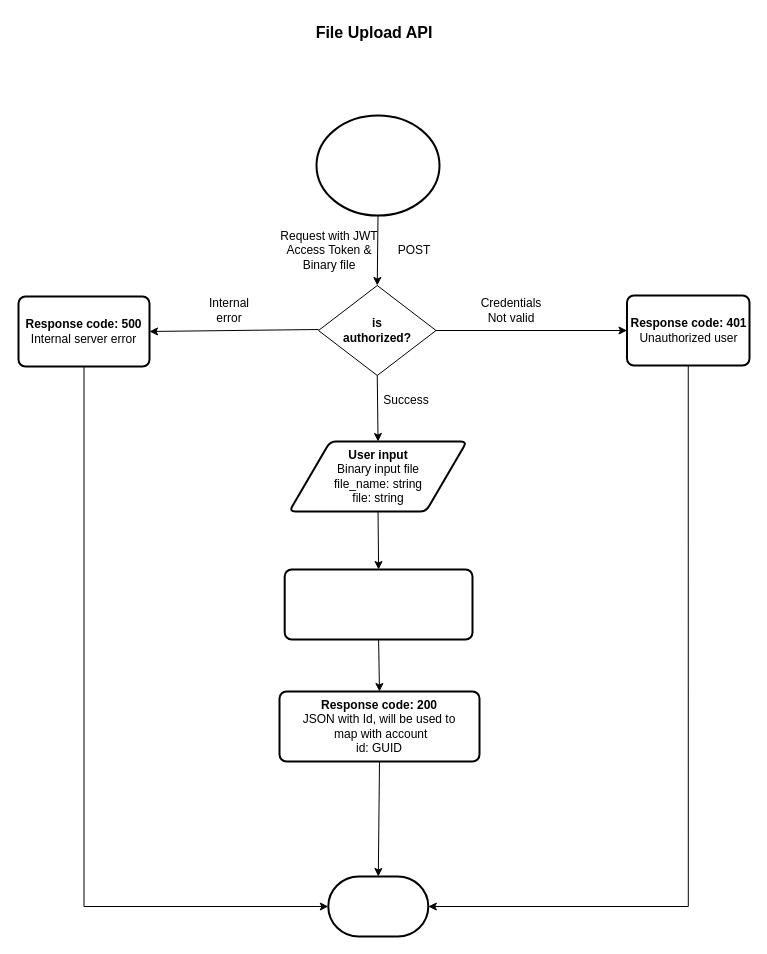
Image size: 767x954. Some labels were removed from this diagram. The shapes that lost their labels are listed below. From the top down, each one's centre as x and y in pixels, then its label:
At (x=377, y=165): "Start /api/asset".
At (x=378, y=604): "Query Query the id of the address book with respect to the user GUID".
At (x=378, y=906): "Stop".
